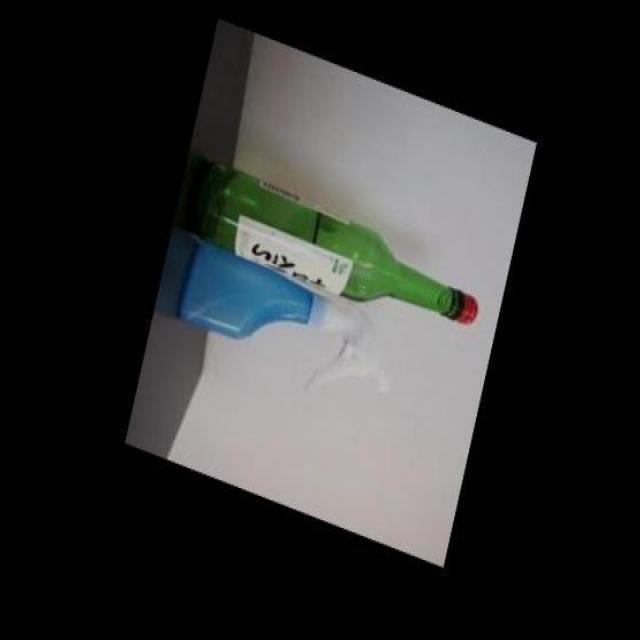Glass: (180, 150, 482, 336)
